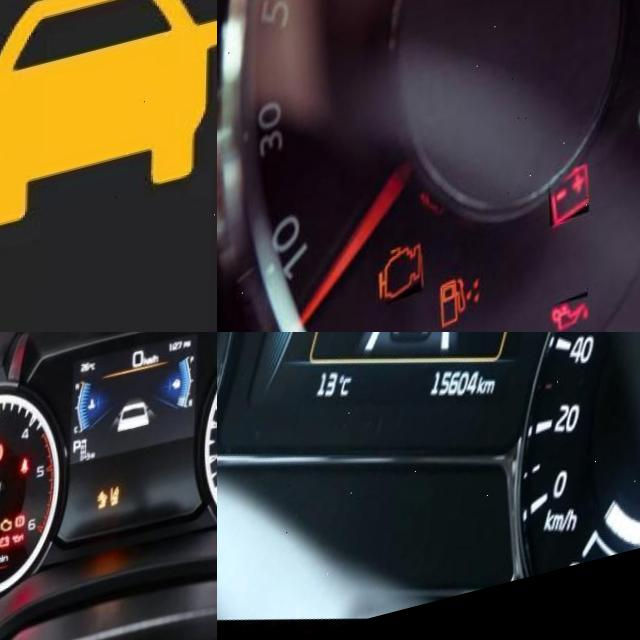Seat Belt: (20, 464, 31, 483)
